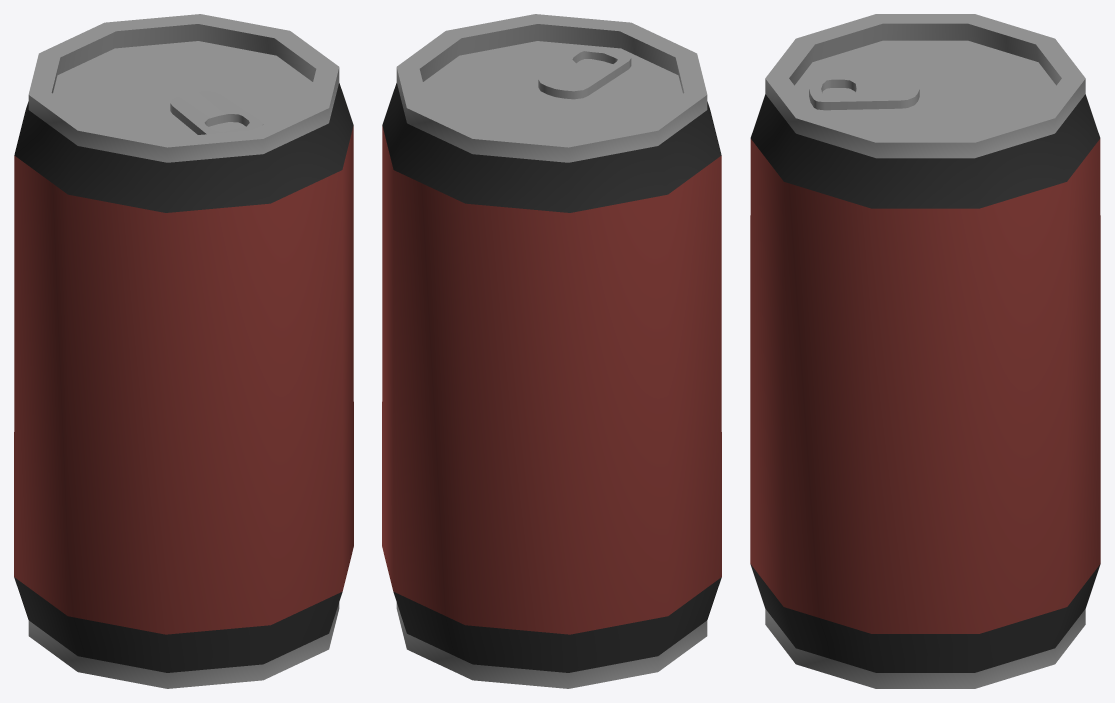
File: EnergyDrink_01.fbx
3 views of the same model, side by side, from view 1: azimuth 30°, elevation 25°; view 2: azimuth 150°, elevation 25°; view 3: azimuth 270°, elevation 25° (orthographic).
Visible parts, largest first — view 1: EnergyDrink_01; view 2: EnergyDrink_01; view 3: EnergyDrink_01.
Part boxes in pixels (left/top/right/bottom): EnergyDrink_01: left=14, top=14, right=353, bottom=688; EnergyDrink_01: left=382, top=14, right=721, bottom=688; EnergyDrink_01: left=750, top=14, right=1100, bottom=688.
Size of the model in its own units: 0.0711 by 0.1286 by 0.0748.
